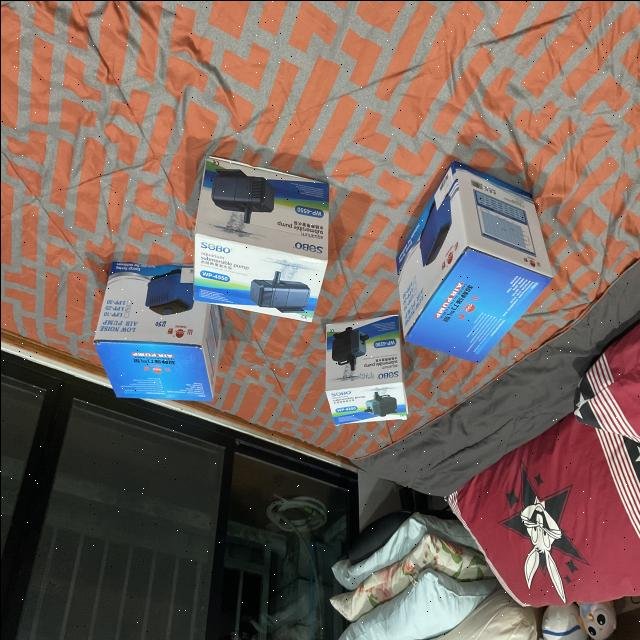SOBO_WP_4200: (184, 144, 328, 328), (316, 312, 412, 428)
YAMANO_LPP_20: (377, 140, 561, 364), (82, 259, 224, 414)
